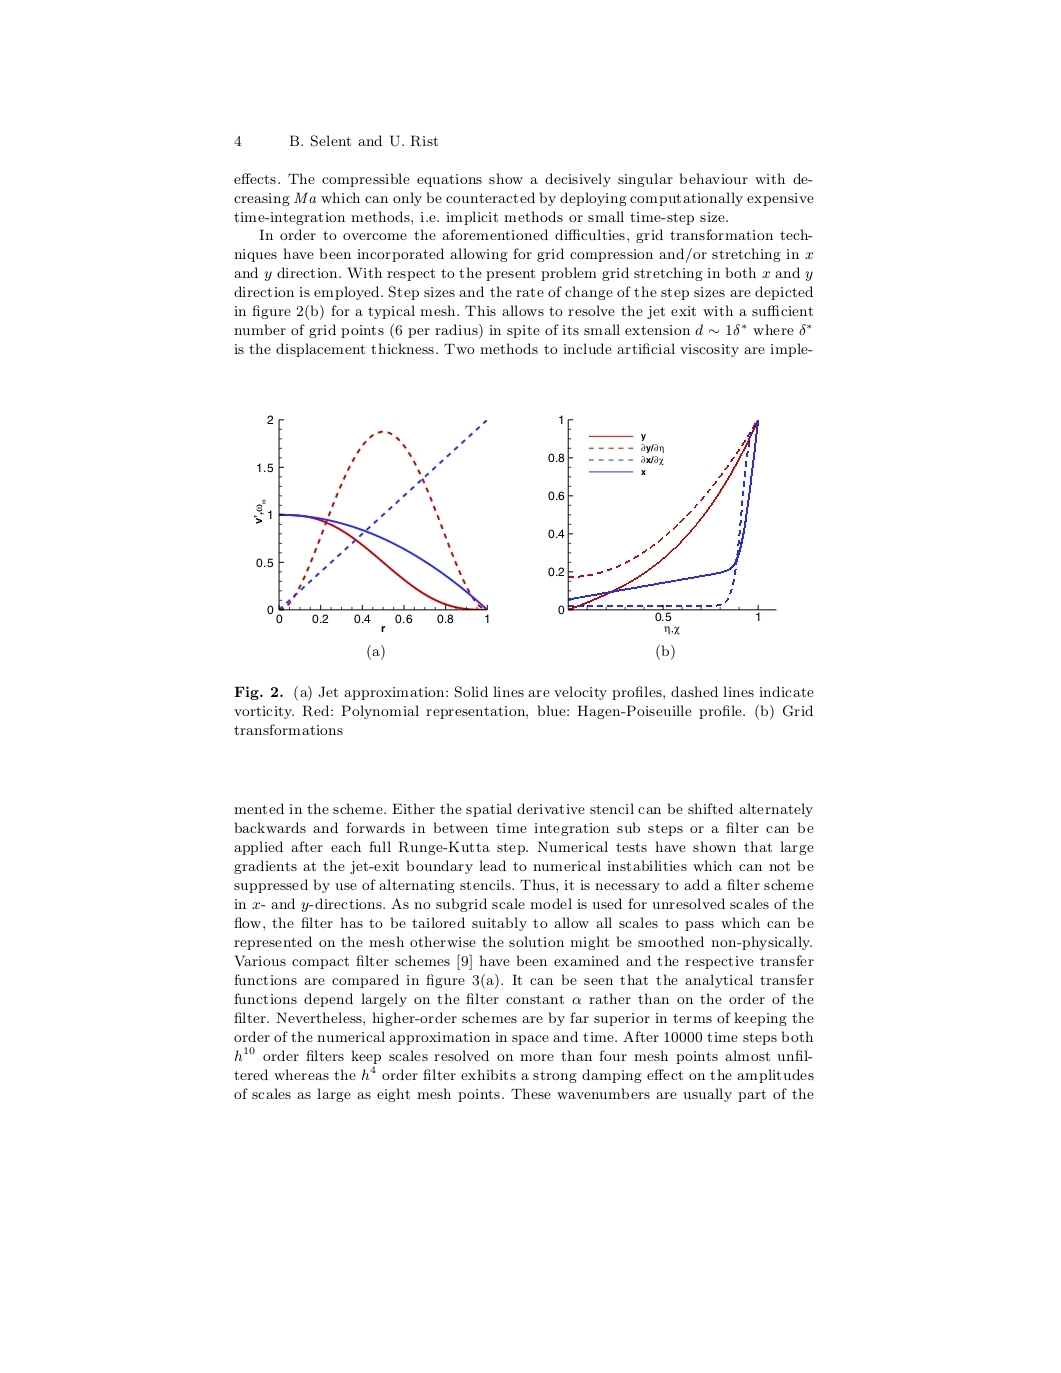figure: (254, 413, 488, 632), (548, 415, 776, 634)
